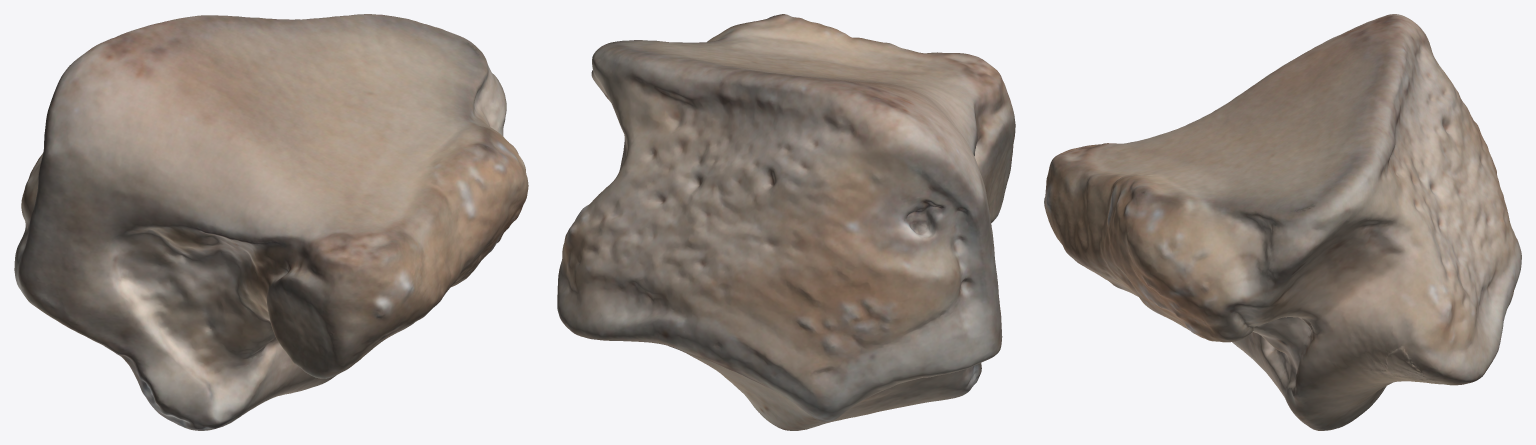
3 renders of one model, left to right at view 1: azimuth 30°, elevation 25°; view 2: azimuth 150°, elevation 25°; view 3: azimuth 270°, elevation 25°, orthographic. The views are drawn at different scales.
Parts seen in each view (by area): view 1: Node; view 2: Node; view 3: Node.
Part boxes in pixels (box(x1,y1,x2,y2)): Node: box(14, 14, 528, 430); Node: box(557, 14, 1015, 430); Node: box(1044, 14, 1521, 430).
Size of the model in its own units: 35.36 by 28.31 by 35.17.
1 material, 1 textured.
